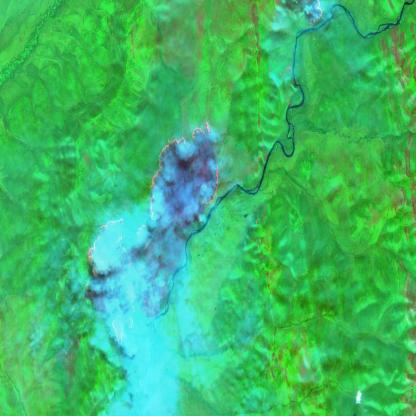fire: (89, 120, 222, 282)
